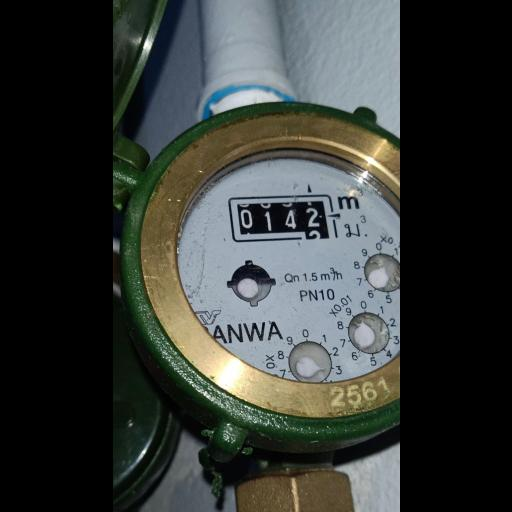0: (236, 203, 259, 235)
1: (256, 202, 281, 234)
2: (302, 199, 329, 241)
4: (279, 201, 306, 234)
border_water_meter_number: (227, 194, 337, 243)
